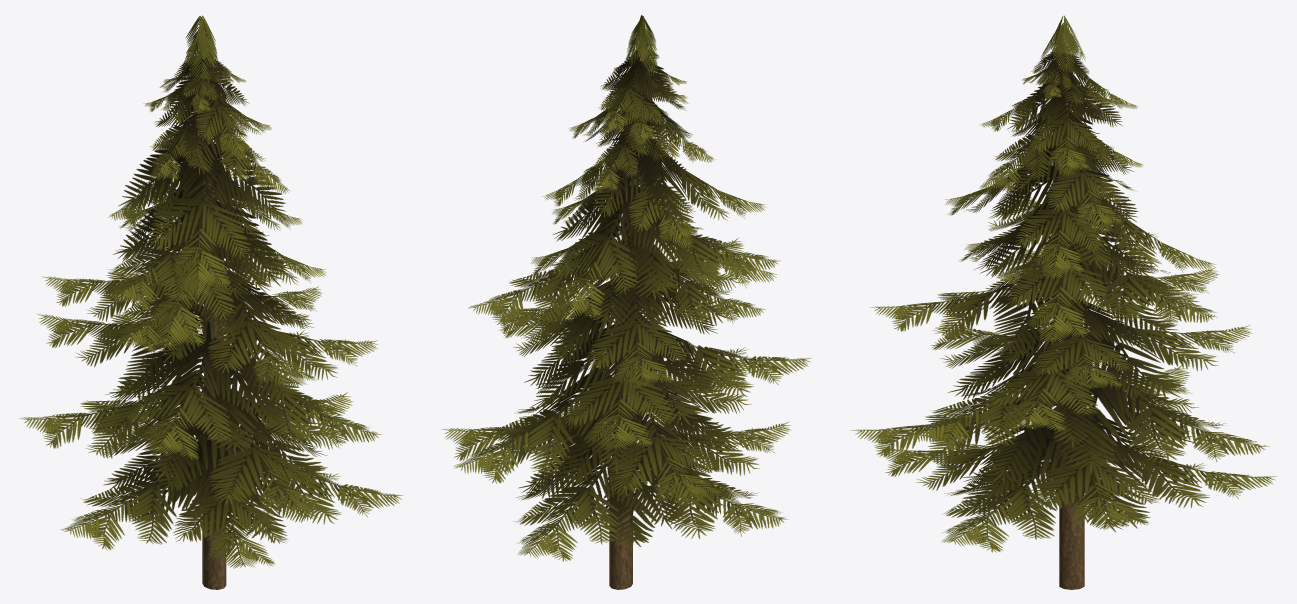
Rendered from tree2.glb.
3 renders of one model, left to right at view 1: azimuth 30°, elevation 25°; view 2: azimuth 150°, elevation 25°; view 3: azimuth 270°, elevation 25°, orthographic. The views are drawn at different scales.
Visible parts, largest first — view 1: Leaves/001, Trank.001; view 2: Leaves/001, Trank.001; view 3: Leaves/001, Trank.001.
Boxes of the visible parts, box(x1,y1,x2,y2) form: Leaves/001: box(19, 15, 403, 568); Trank.001: box(198, 30, 226, 589); Leaves/001: box(442, 15, 811, 561); Trank.001: box(609, 29, 645, 589); Leaves/001: box(850, 15, 1277, 552); Trank.001: box(1056, 29, 1084, 589).
Size of the model in its own units: 23.28 by 39.49 by 27.86.
Materials: 2 (2 with a texture image).
